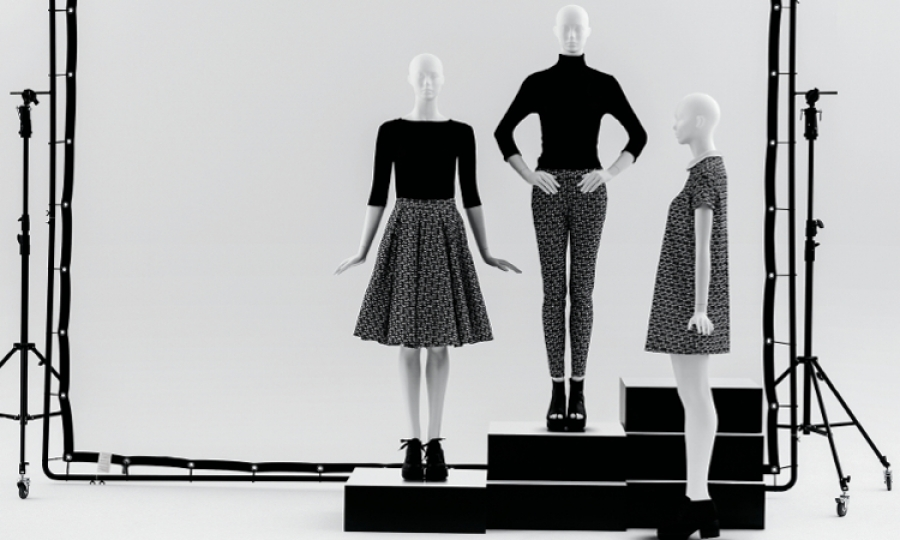person-like: (329, 49, 525, 485), (489, 1, 651, 436), (640, 87, 740, 540)
